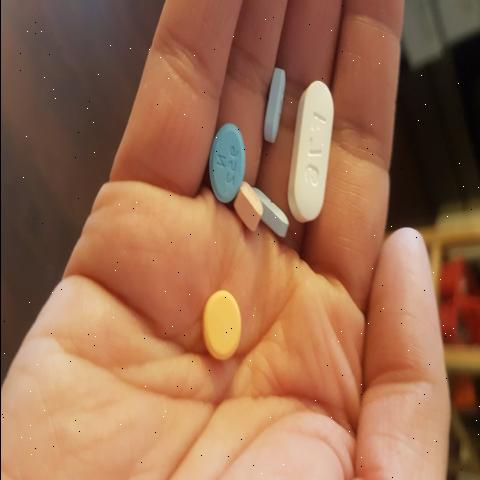Pill: (286, 47, 334, 234), (188, 270, 258, 368)
